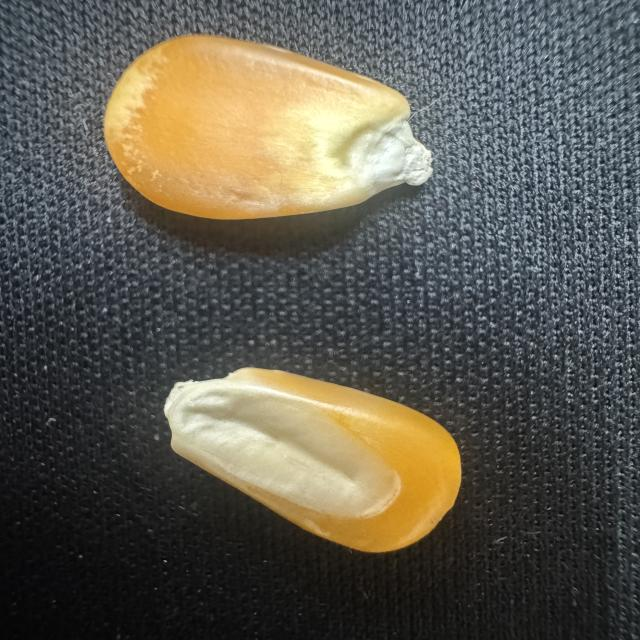Good-Seed: (98, 27, 438, 228), (151, 359, 468, 564)
